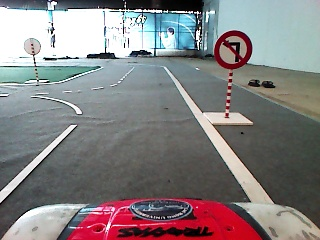ban_left: (214, 30, 253, 69)
